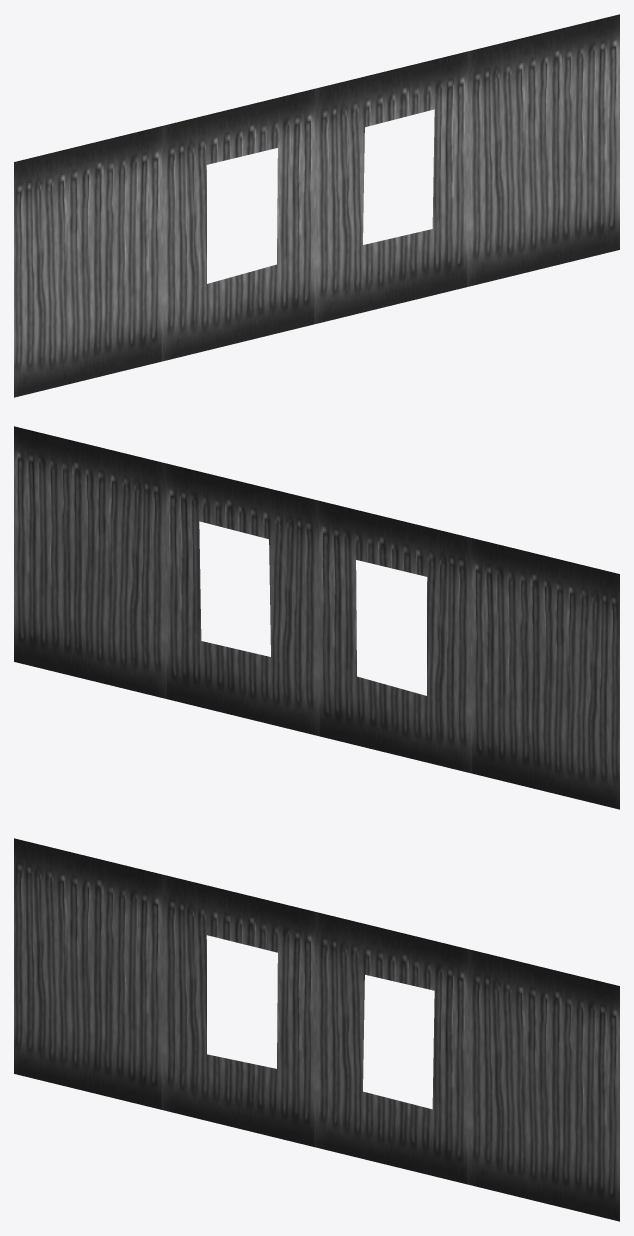
File: W_AI1_xffx [Wellblech]_826.glb
3 renders of one model, top to bottom at view 1: azimuth 30°, elevation 25°; view 2: azimuth 150°, elevation 25°; view 3: azimuth 330°, elevation 25°, orthographic.
Parts seen in each view (by area): view 1: polySurfaceShape808; view 2: polySurfaceShape808; view 3: polySurfaceShape808.
Boxes of the visible parts, x1,y1,x2,y2 form: polySurfaceShape808: (14,14,619,397); polySurfaceShape808: (14,426,619,809); polySurfaceShape808: (14,838,619,1221).
Bounding box in the file's own units: 0.9385 × 0.3486 × 1.52e-08.
1 material, 1 textured.
